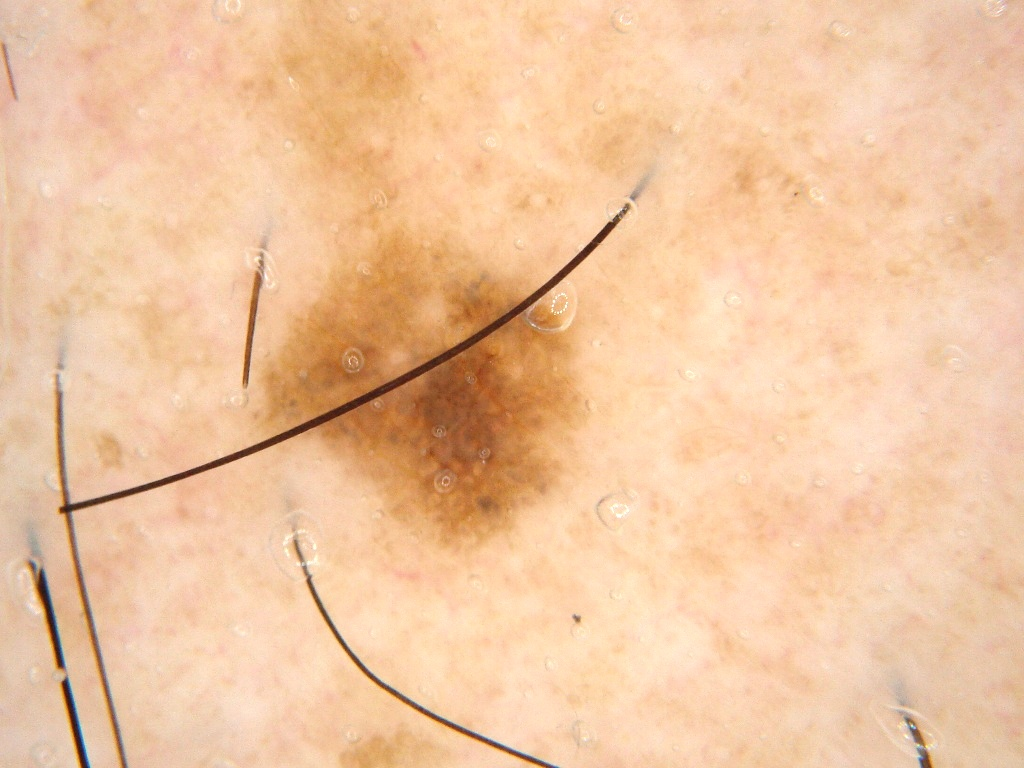Detected Lesion: (249, 208, 610, 564)
